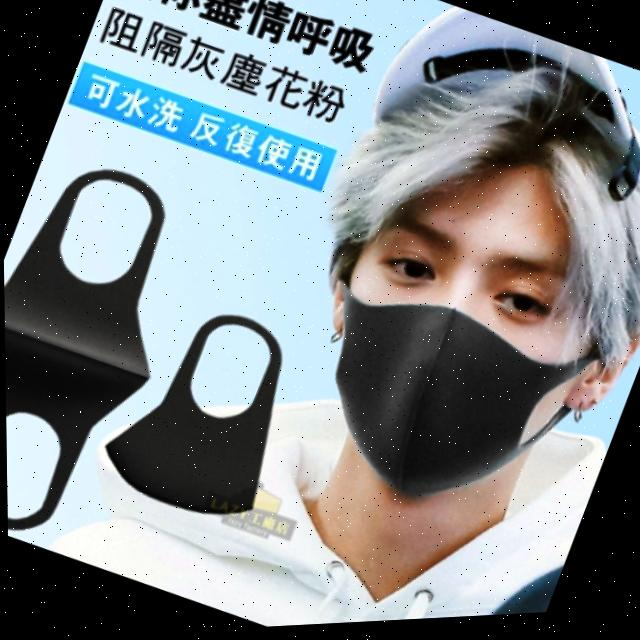Mask: (260, 207, 640, 564)
